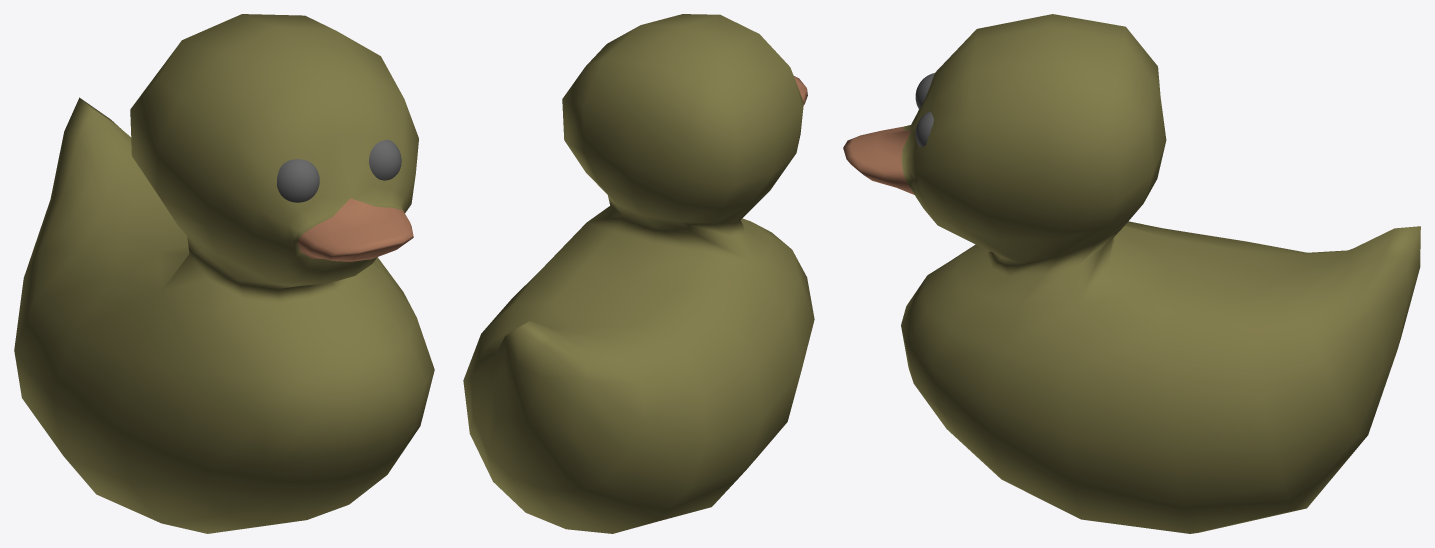
The model's file is duck.fbx.
The picture shows the model from 3 angles, left to right: view 1: azimuth 30°, elevation 25°; view 2: azimuth 150°, elevation 25°; view 3: azimuth 270°, elevation 25°; orthographic projection. The views are drawn at different scales.
Visible parts, largest first — view 1: pCube1, pSphere1, pSphere2; view 2: pCube1; view 3: pCube1.
Part boxes in pixels (<box>): pCube1: <box>14,14,434,533</box>; pSphere1: <box>277,159,319,202</box>; pSphere2: <box>369,139,401,180</box>; pCube1: <box>463,14,814,533</box>; pCube1: <box>843,14,1420,533</box>.
Bounding box in the file's own units: 7.01 × 10.93 × 11.8.
